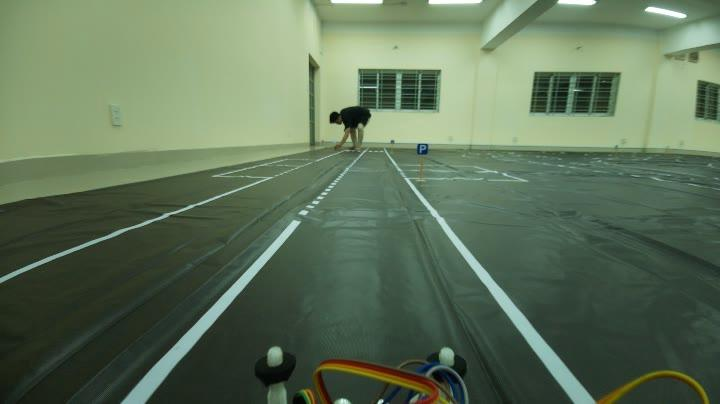parking: (415, 139, 431, 160)
